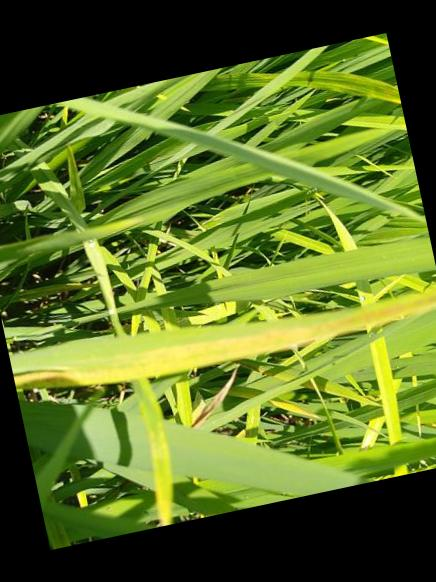Leaf Streak: (12, 300, 436, 390), (135, 380, 171, 526), (357, 76, 401, 105)
